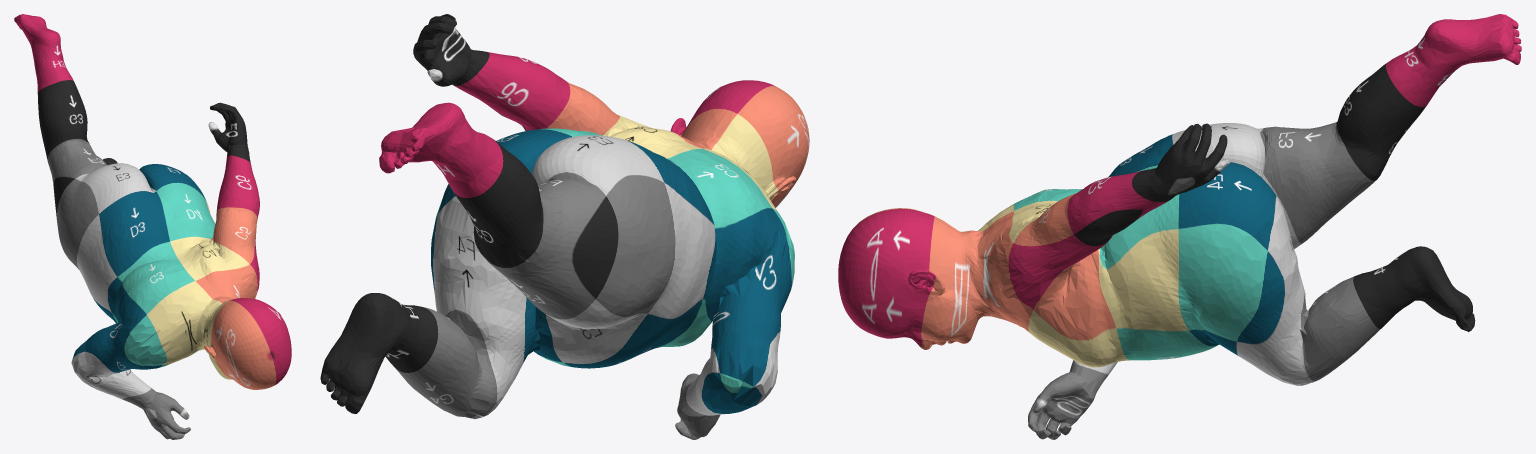
Rendered from kid00-kid07.obj.
3 views of the same model, side by side, from view 1: azimuth 30°, elevation 25°; view 2: azimuth 150°, elevation 25°; view 3: azimuth 270°, elevation 25° (orthographic). The views are drawn at different scales.
Parts seen in each view (by area): view 1: kid00-kid07_export; view 2: kid00-kid07_export; view 3: kid00-kid07_export.
Part boxes in pixels (<box>): kid00-kid07_export: <box>14,14,291,439</box>; kid00-kid07_export: <box>320,14,809,439</box>; kid00-kid07_export: <box>838,14,1521,439</box>.
Bounding box in the file's own units: 0.4585 × 0.6923 × 1.
Materials: 1 (1 with a texture image).
